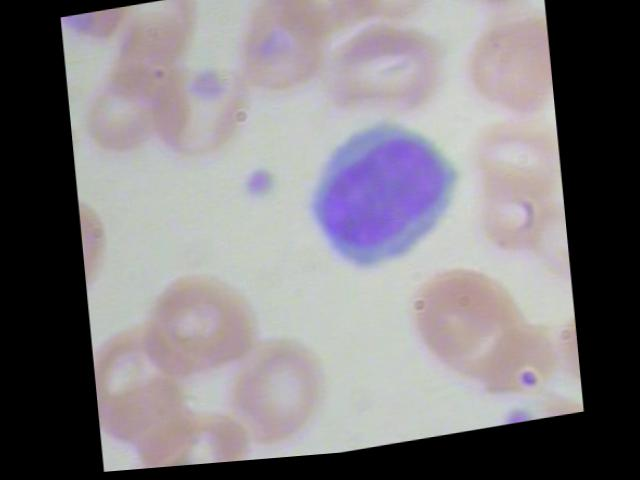Platelets: (238, 163, 282, 211), (496, 409, 539, 433)
White Blood Cells: (295, 98, 474, 289)
